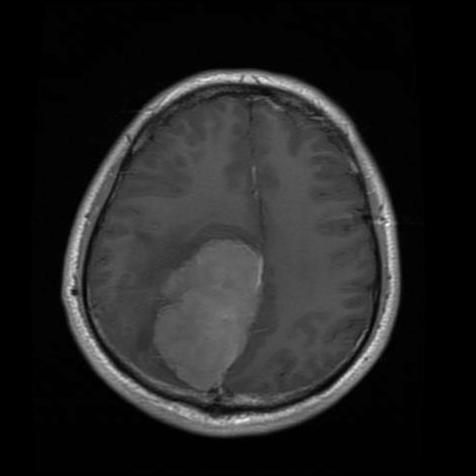Tumour-Pituitary: (142, 214, 274, 421)
